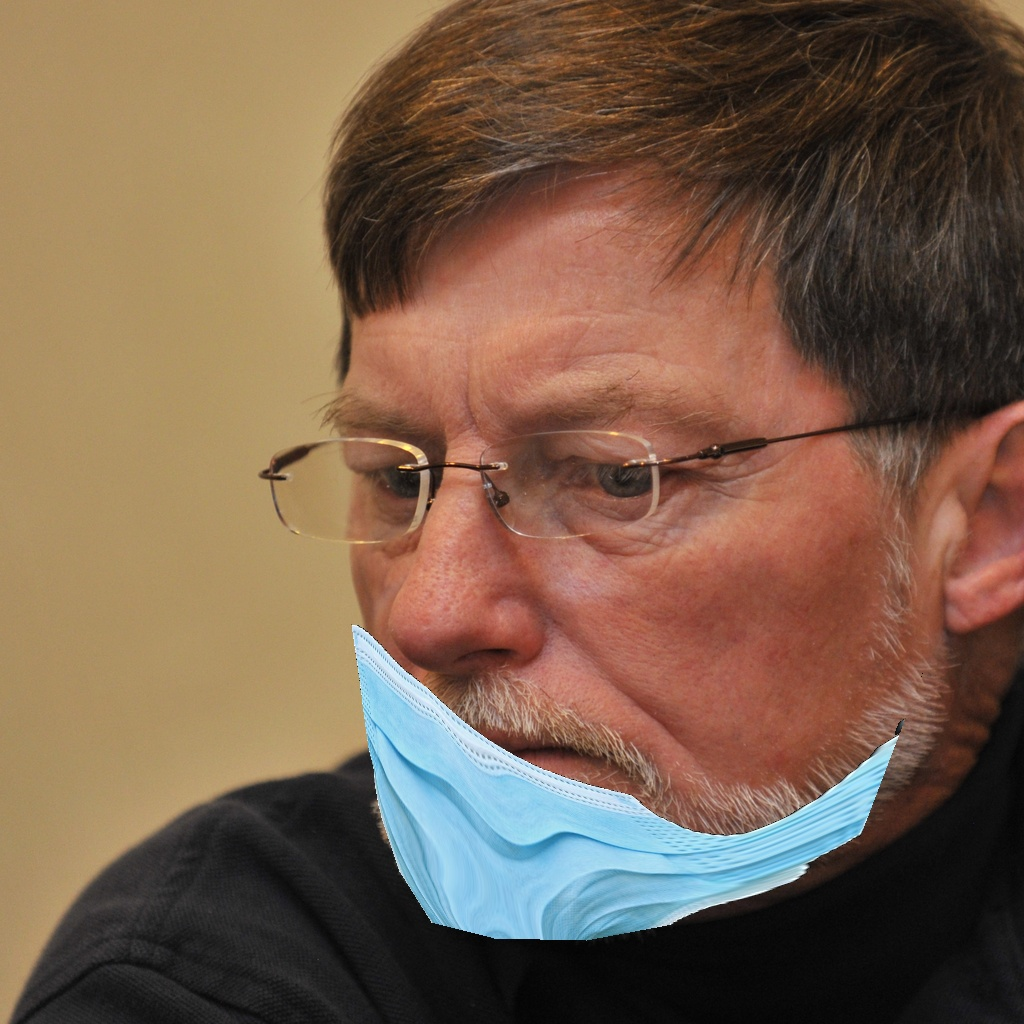mascarilla_mal_puesta: (287, 385, 909, 970)
